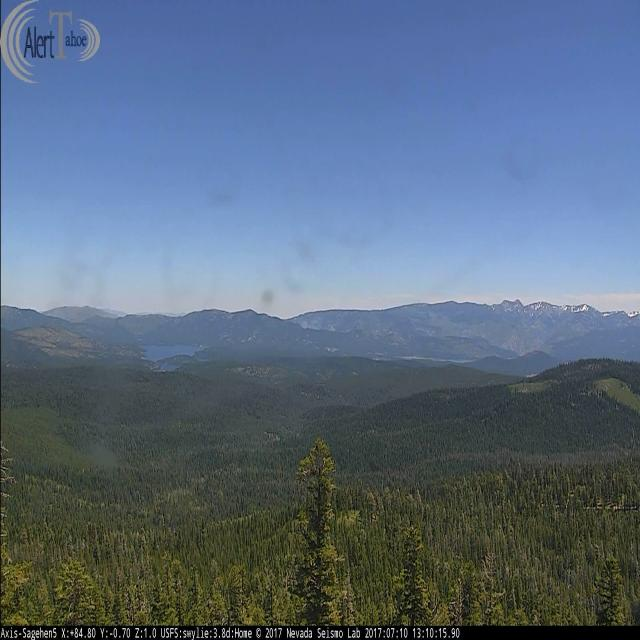smoke: (301, 319, 319, 332)
